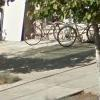Bicycle: (21, 15, 96, 51)
